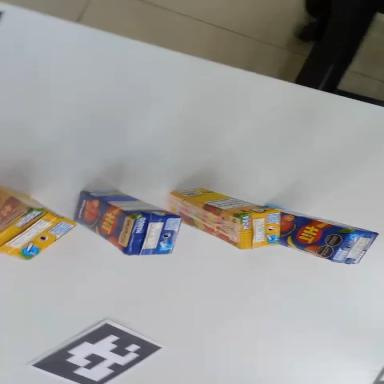HIT-MANGO: (66, 179, 184, 269), (270, 208, 378, 270)
HIT-MORA: (161, 180, 286, 258), (0, 187, 79, 274)
cara_F: (65, 190, 144, 255), (162, 192, 251, 249), (272, 212, 353, 263), (0, 188, 33, 236)
